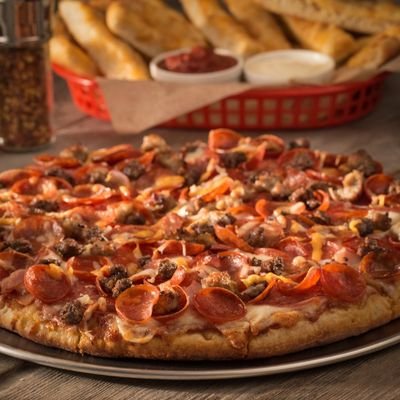sushi: (242, 48, 336, 87)
